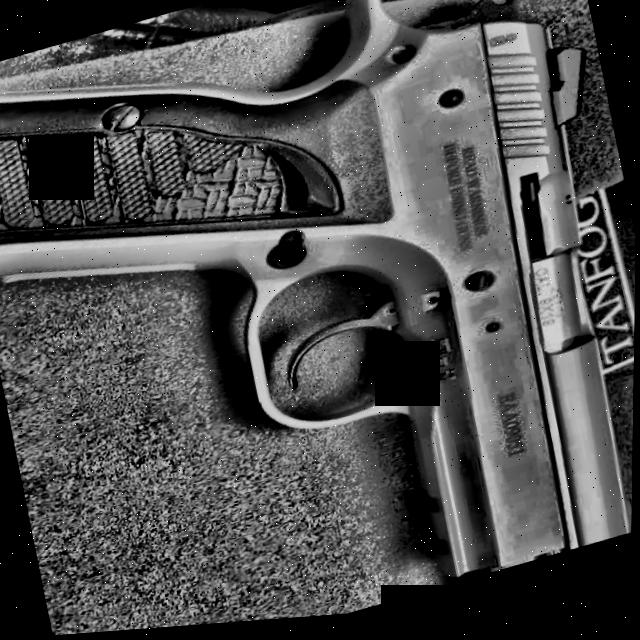Tanfoglio: (0, 0, 640, 640)
